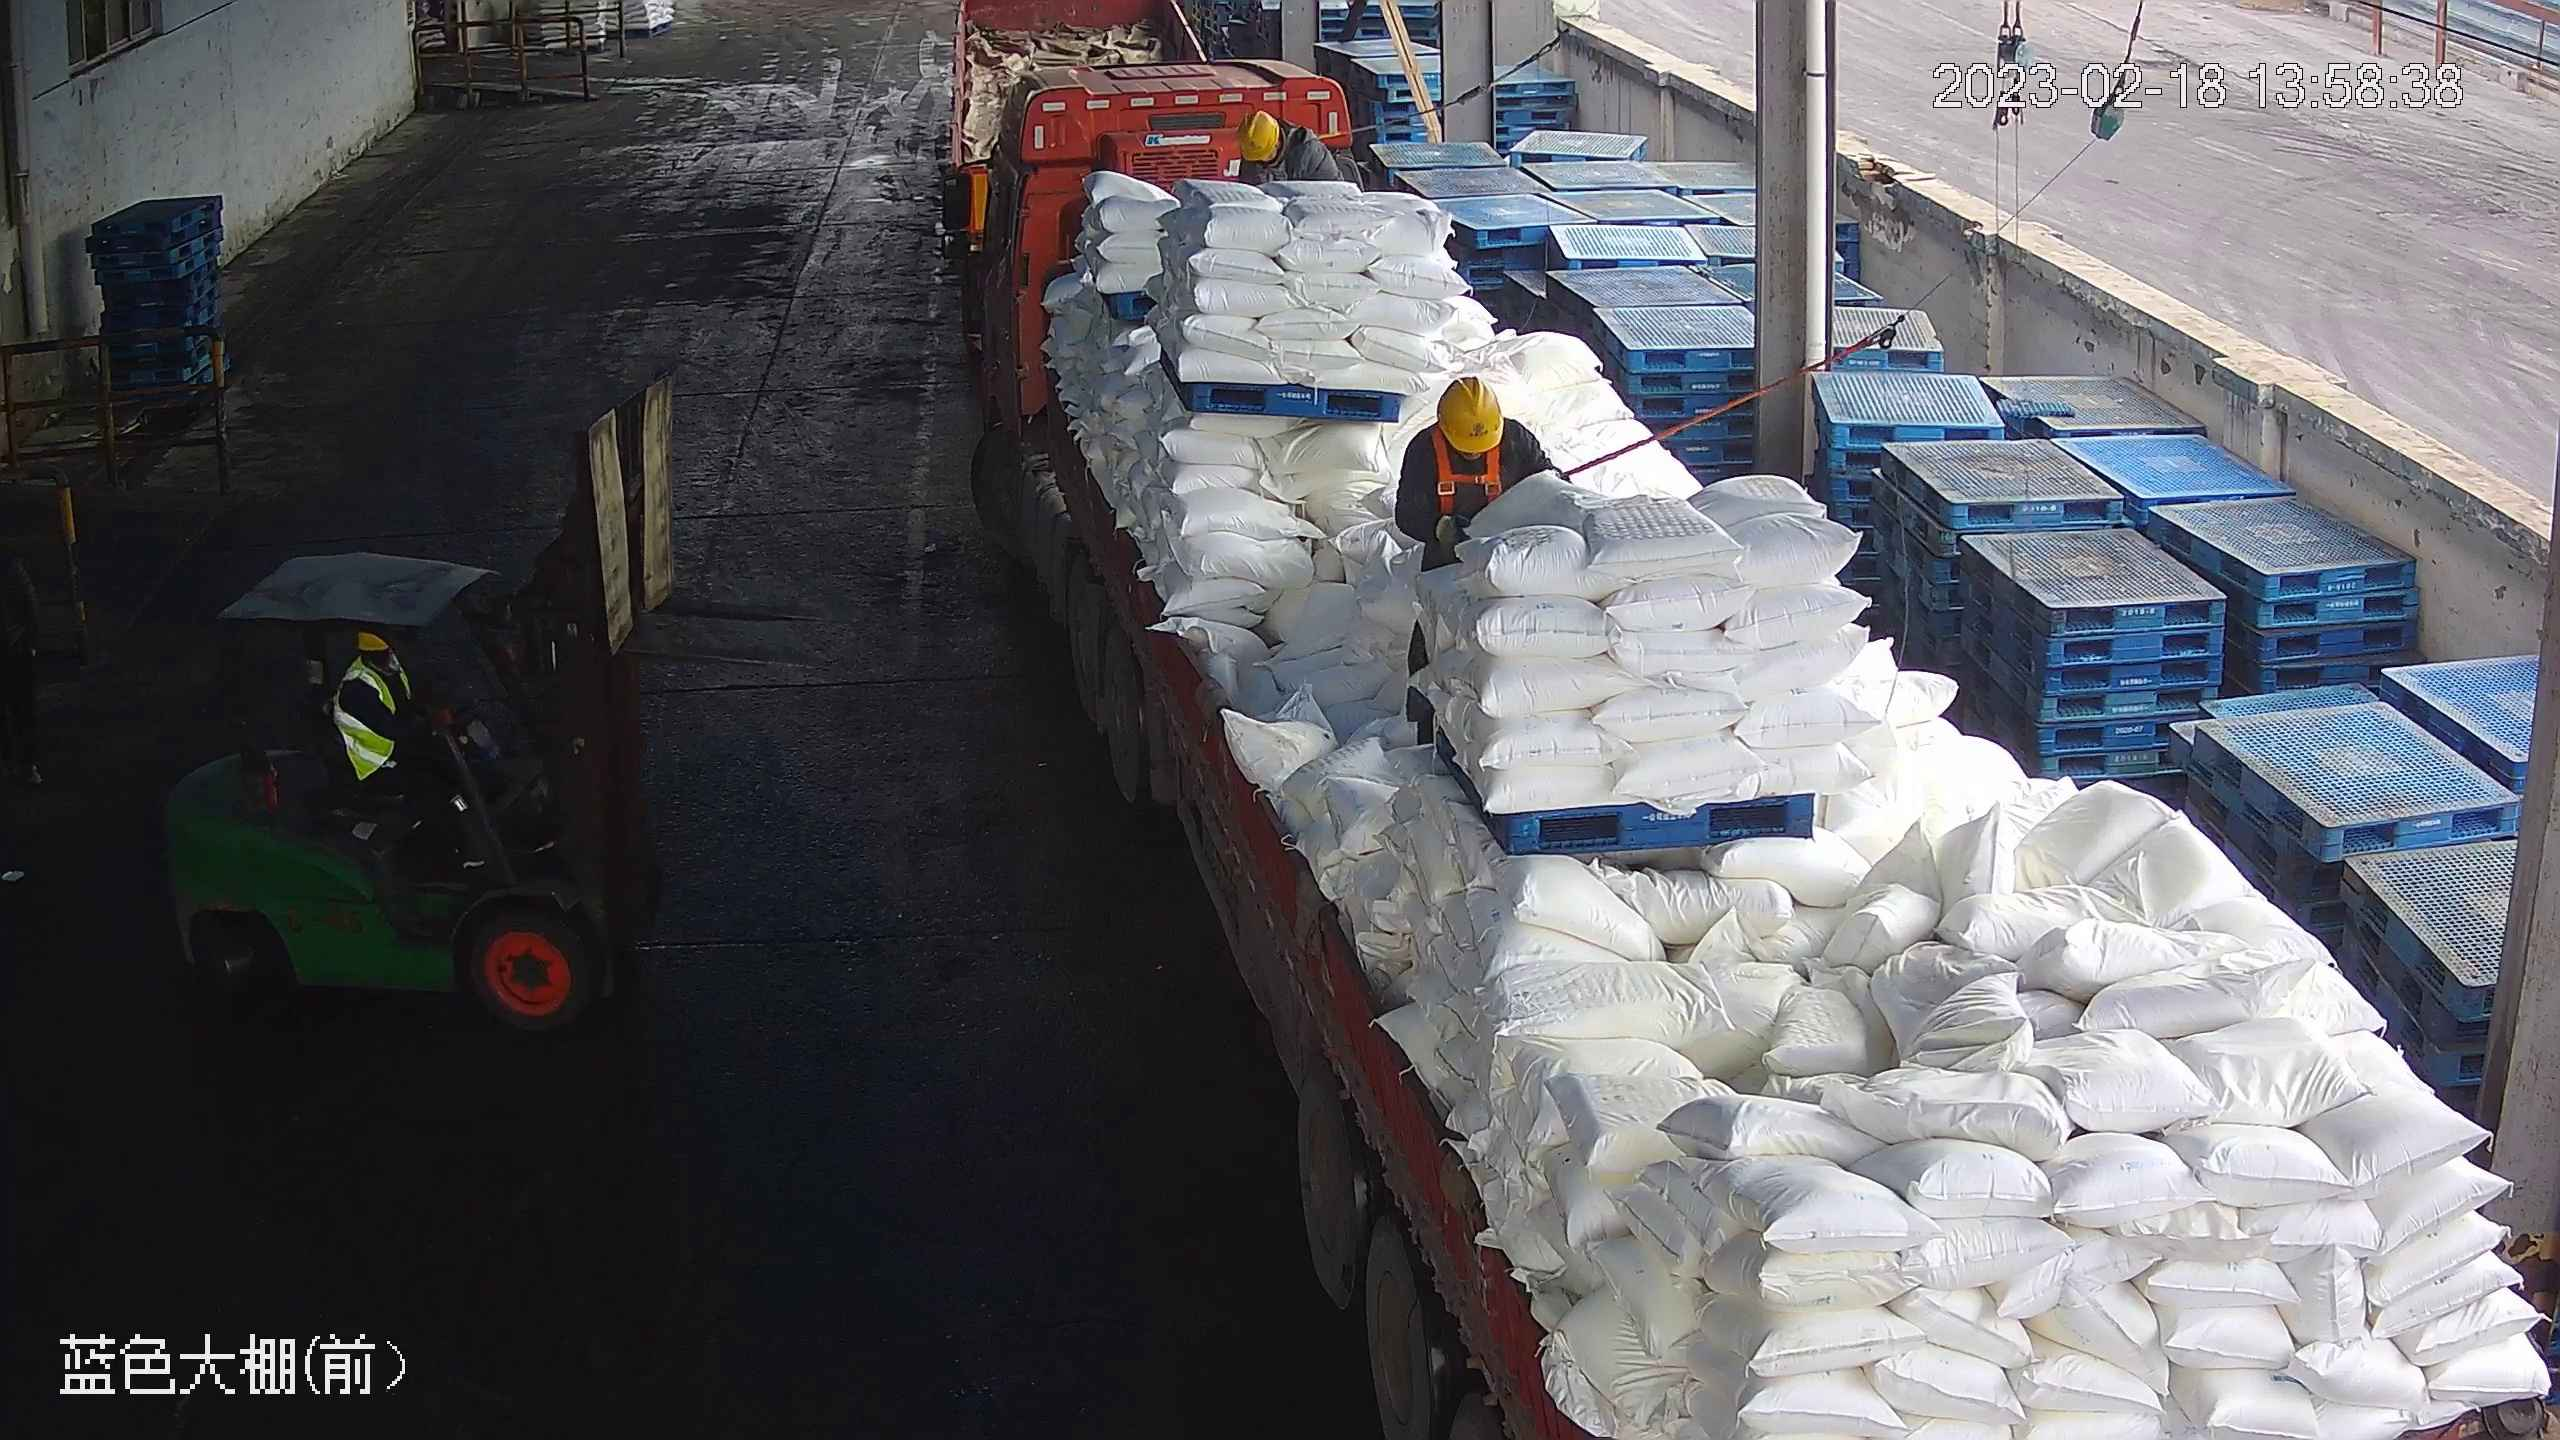belt: (1435, 425, 1511, 514)
head: (1402, 373, 1540, 478), (335, 628, 413, 714), (1235, 108, 1322, 164)
helmet: (1434, 374, 1501, 450), (1237, 111, 1283, 161)
people: (336, 623, 459, 851)
truck: (940, 62, 2556, 1440)
